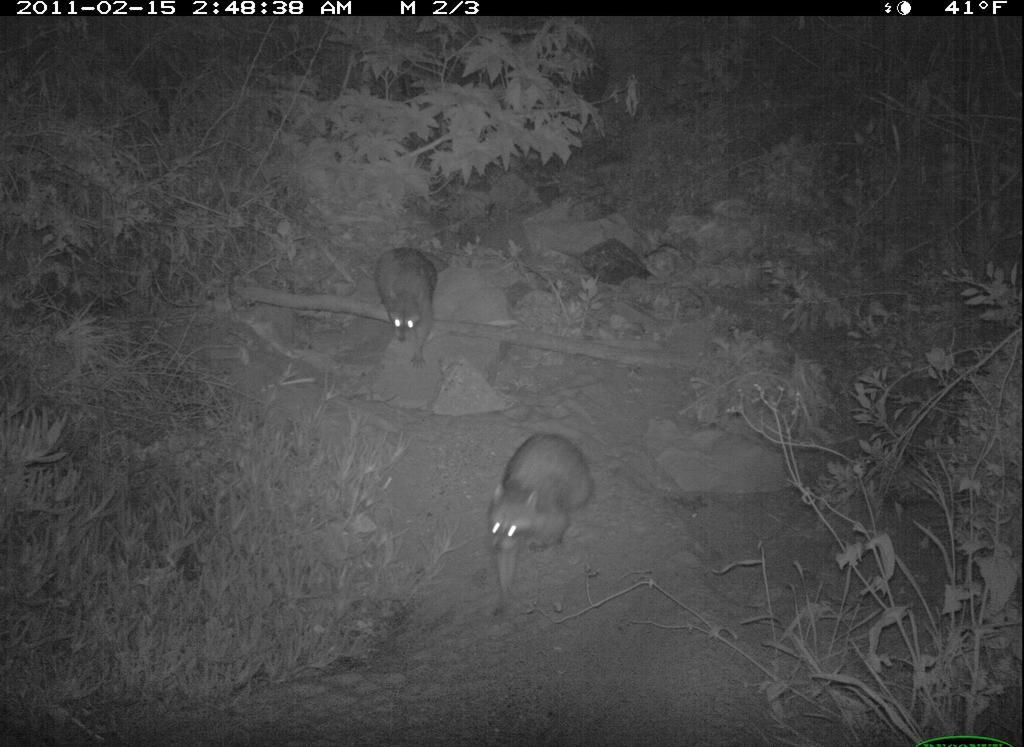raccoon: (481, 432, 600, 612), (372, 246, 445, 368)
